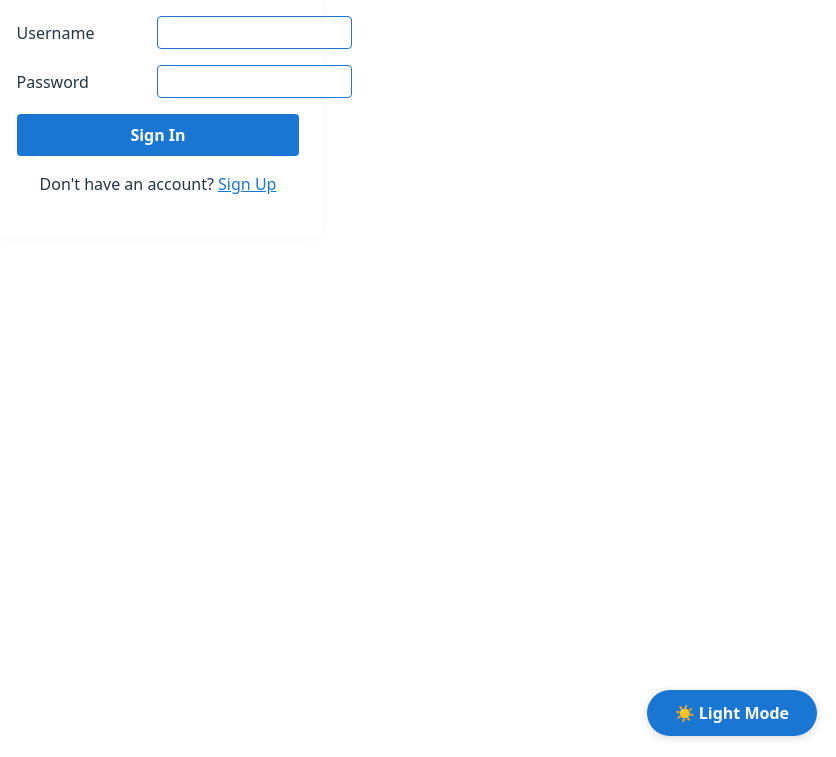
it: SignInForm › shows error if server/network error occurs
The width and height of the screenshot is (836, 757).
Type "user" into the field labelled "Username" at [254, 32], box left=157, top=16, right=352, bottom=49
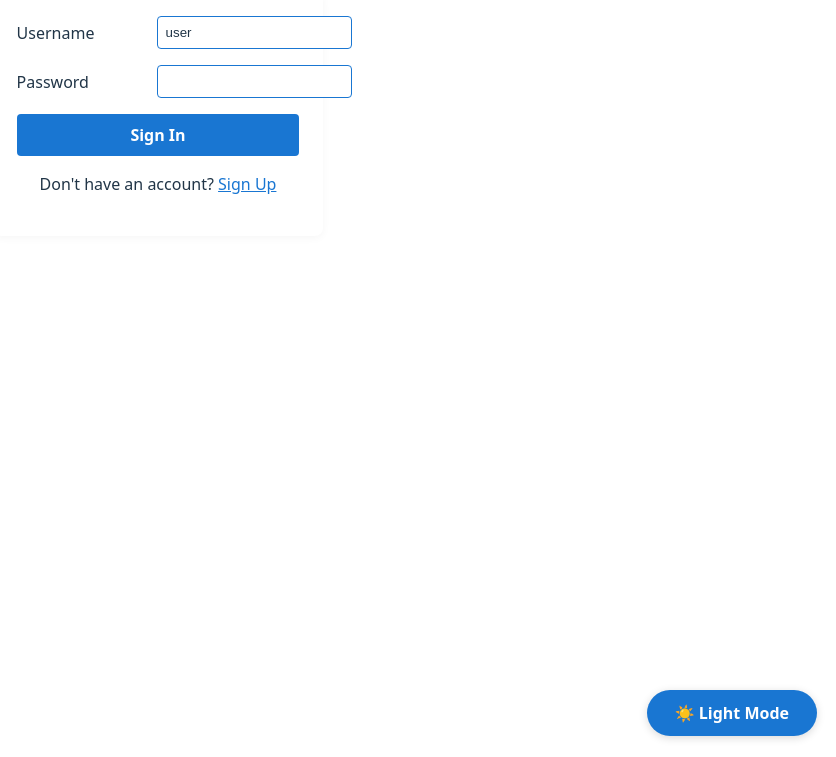
Type "pass" into the password field labelled "Password" at [254, 82], box left=157, top=65, right=352, bottom=98
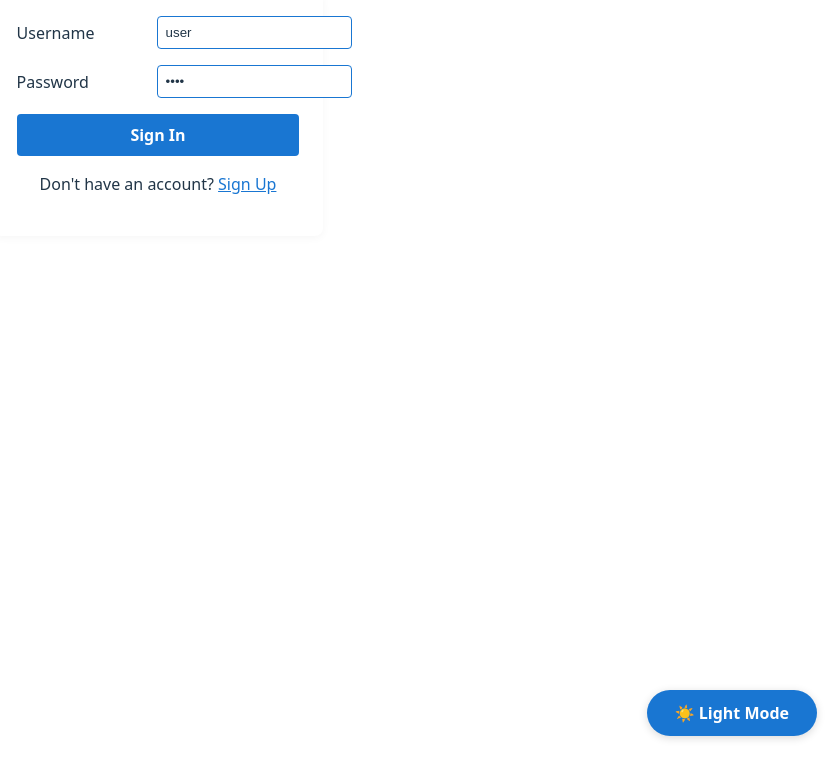
Click the button "Sign In" at [158, 135], box left=17, top=114, right=299, bottom=156
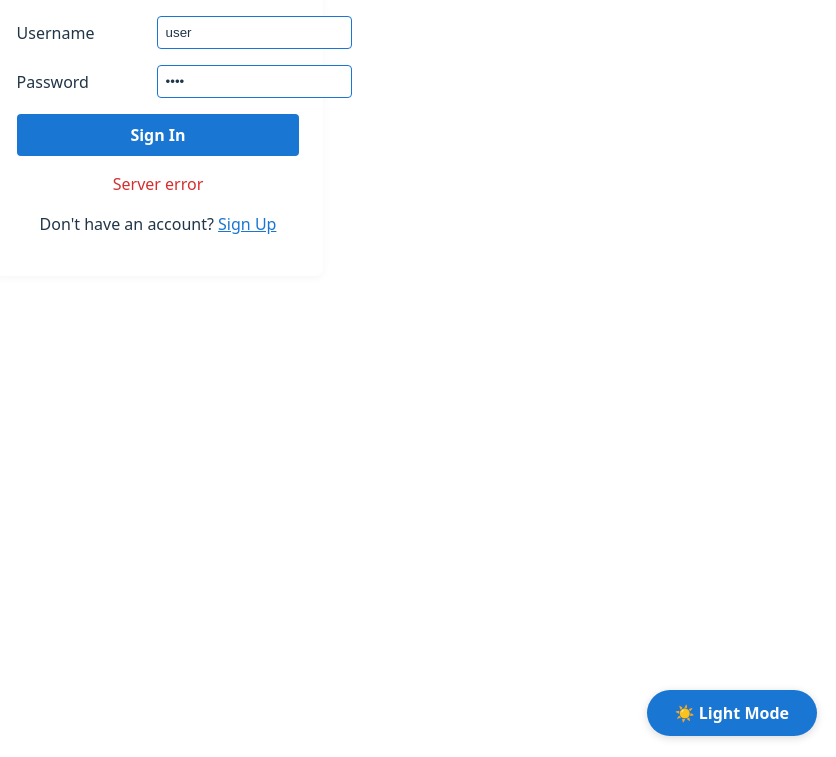
expect the text "Server error" is shown: met, box left=113, top=173, right=203, bottom=195
